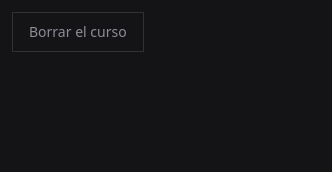
BotonBorrarCurso › muestra el 409 si el curso tiene tareas
Click the button "Borrar el curso" at {"x": 78, "y": 32}, box [12,12,144,52]
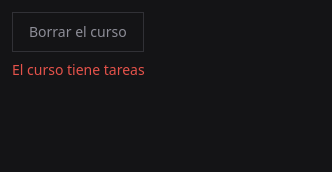
Result: the message reads "El curso tiene tareas" at [12,60,145,79]
